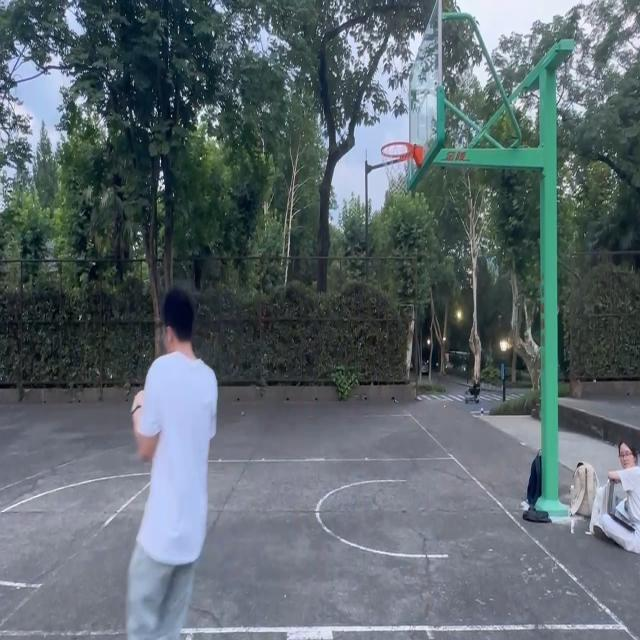basketball: (380, 143, 424, 196)
